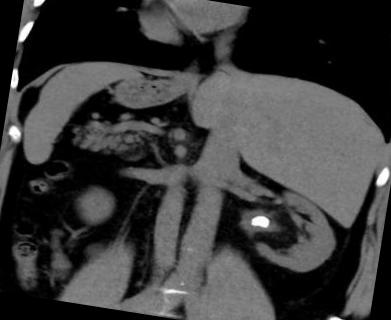Tas_Var: (248, 213, 270, 229), (249, 222, 257, 226)
